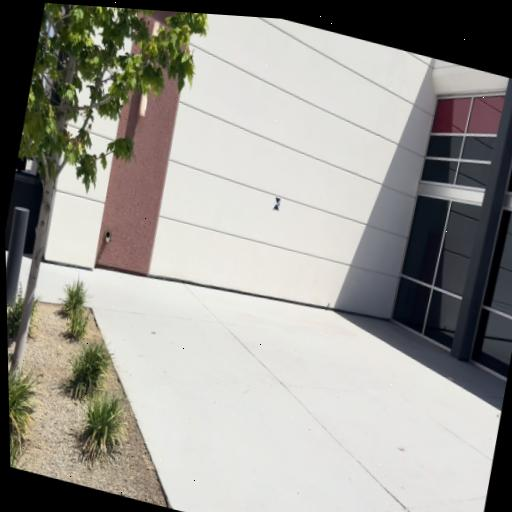target0: (273, 196, 282, 211)
